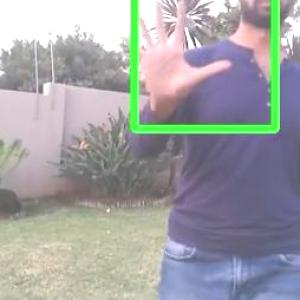follow_hand: (120, 0, 230, 112)
